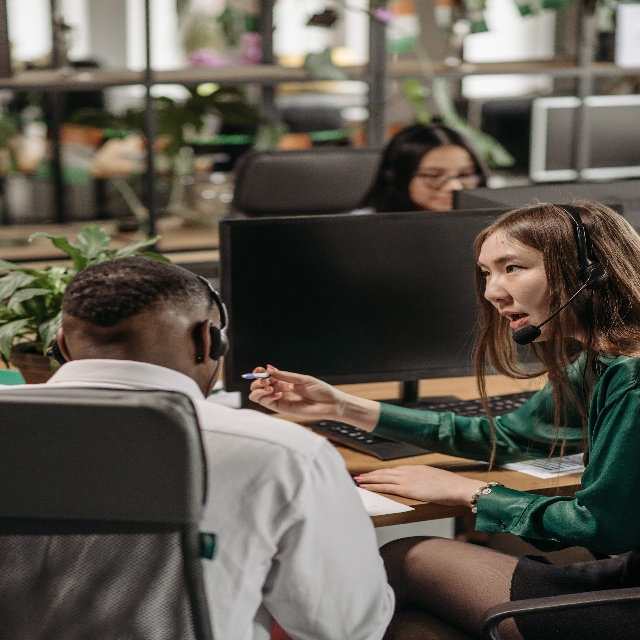Gafas: (414, 168, 480, 193)
Sin_guantes: (247, 359, 342, 428), (352, 459, 463, 511)
